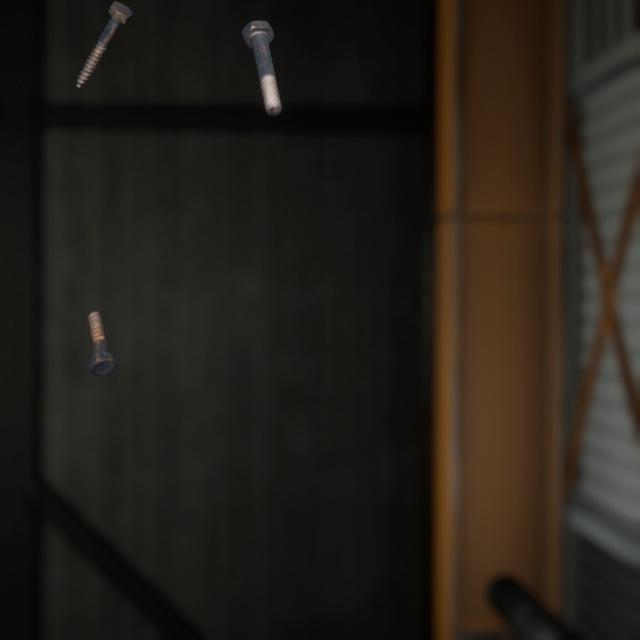bolt: (71, 0, 137, 83), (237, 5, 286, 109), (83, 289, 123, 362)
